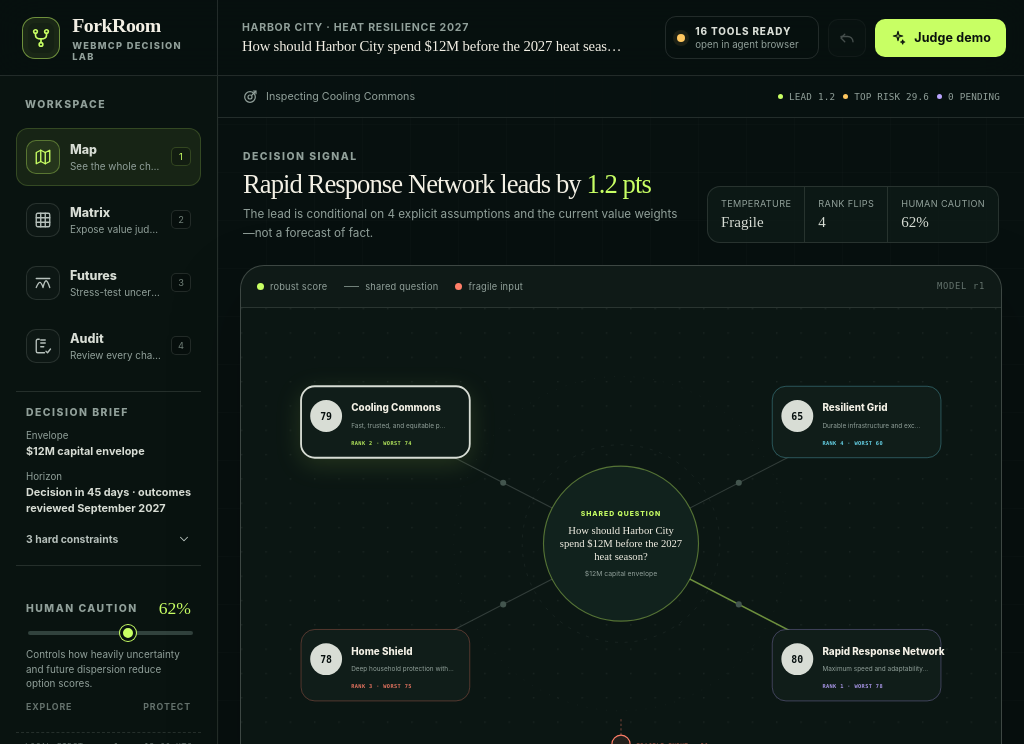
Test case: ForkRoom product experience › moves between map, matrix, futures, and audit views through the human UI
Step 1. Click the button "Matrix Expose value judgments 2" → point(108, 220), box left=16, top=190, right=201, bottom=248
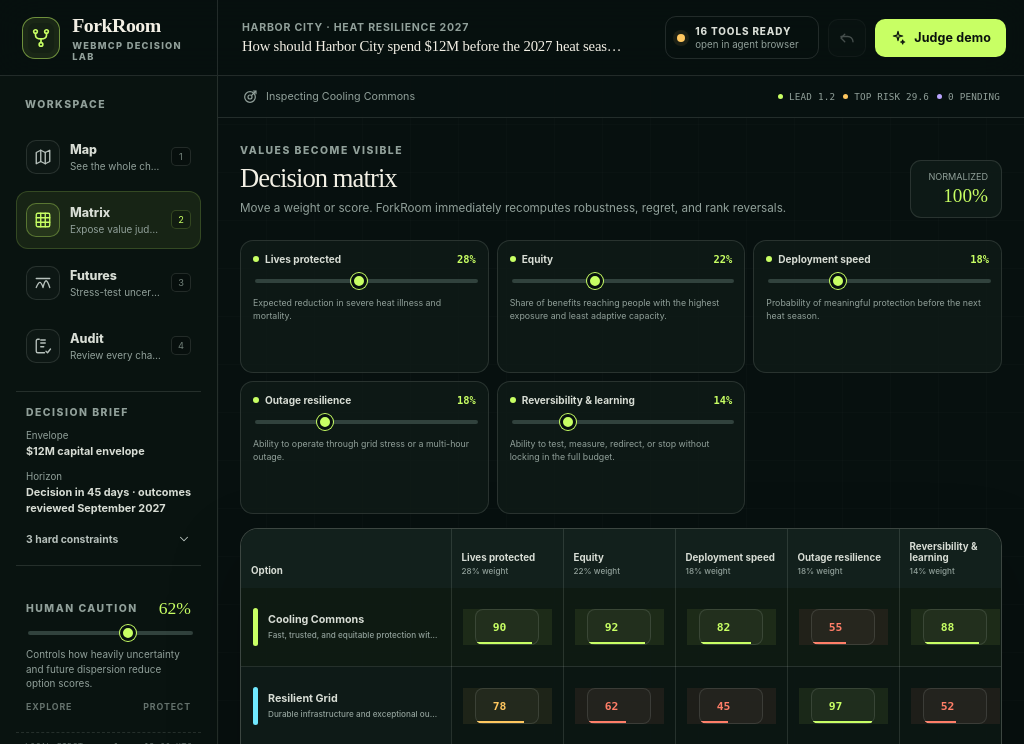
Expected: the heading "Decision matrix" is shown, left=240, top=162, right=397, bottom=192
Step 2. Click the button "Futures Stress-test uncertainty 3" → point(108, 282), box left=16, top=254, right=201, bottom=312
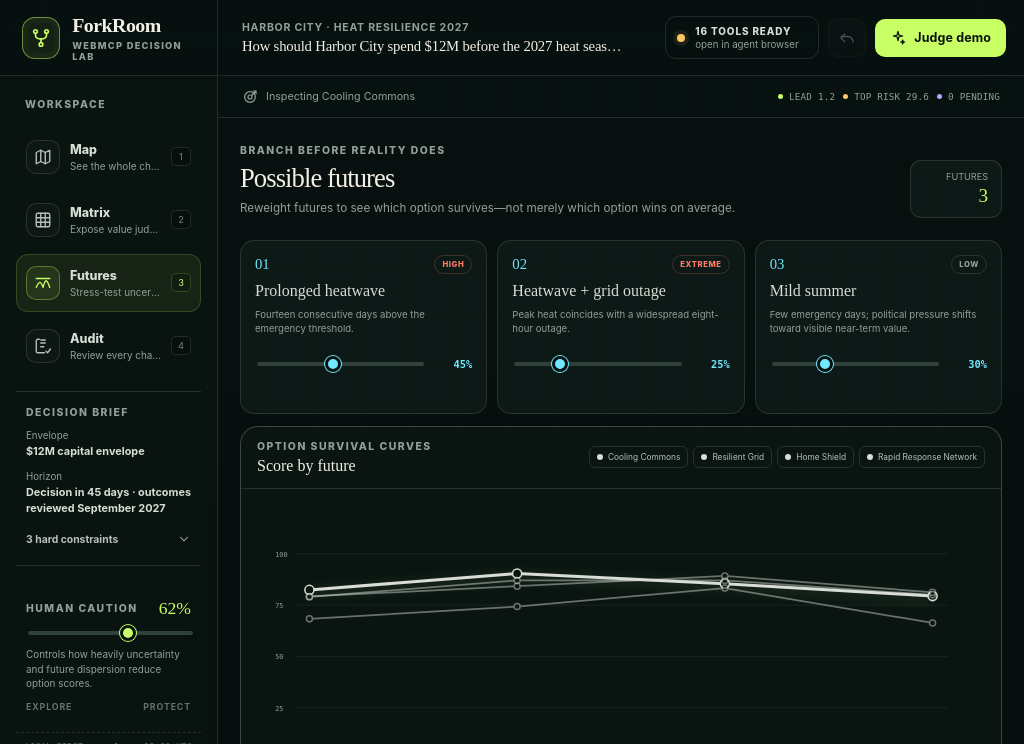
Expected: the heading "Possible futures" is shown, left=240, top=162, right=394, bottom=192
Step 3. Click the button "Audit Review every change 4" → point(108, 346), box left=16, top=316, right=201, bottom=374
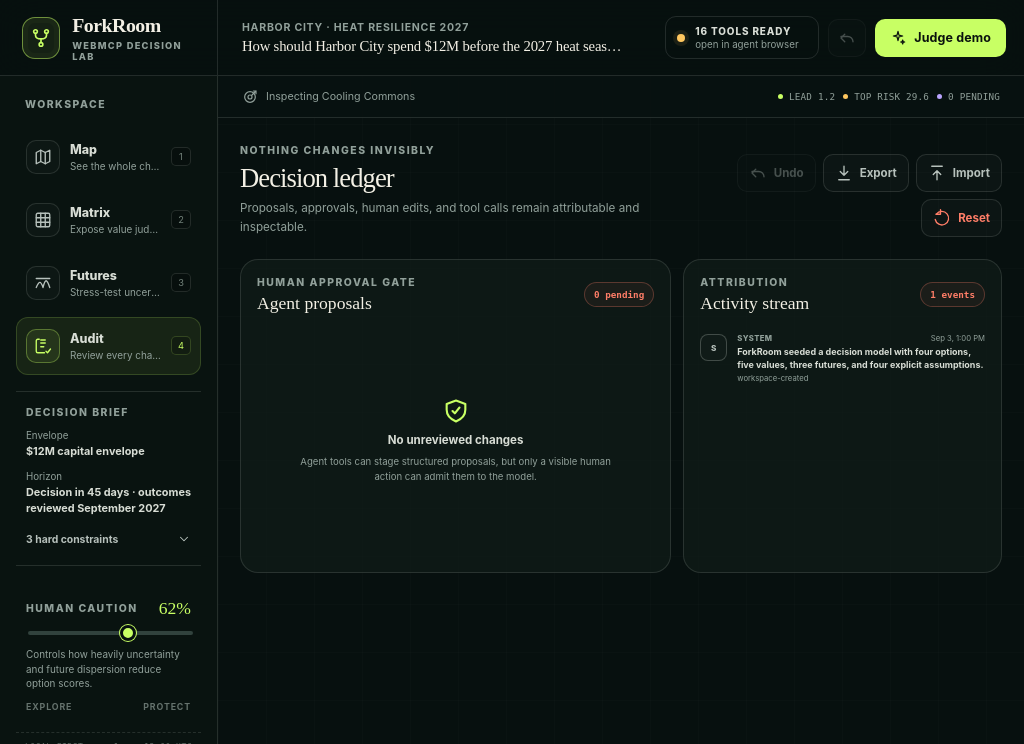
Expected: the heading "Decision ledger" is shown, left=240, top=162, right=394, bottom=192
Step 4. Click the button "Map See the whole choice 1" → point(108, 156), box left=16, top=128, right=201, bottom=186
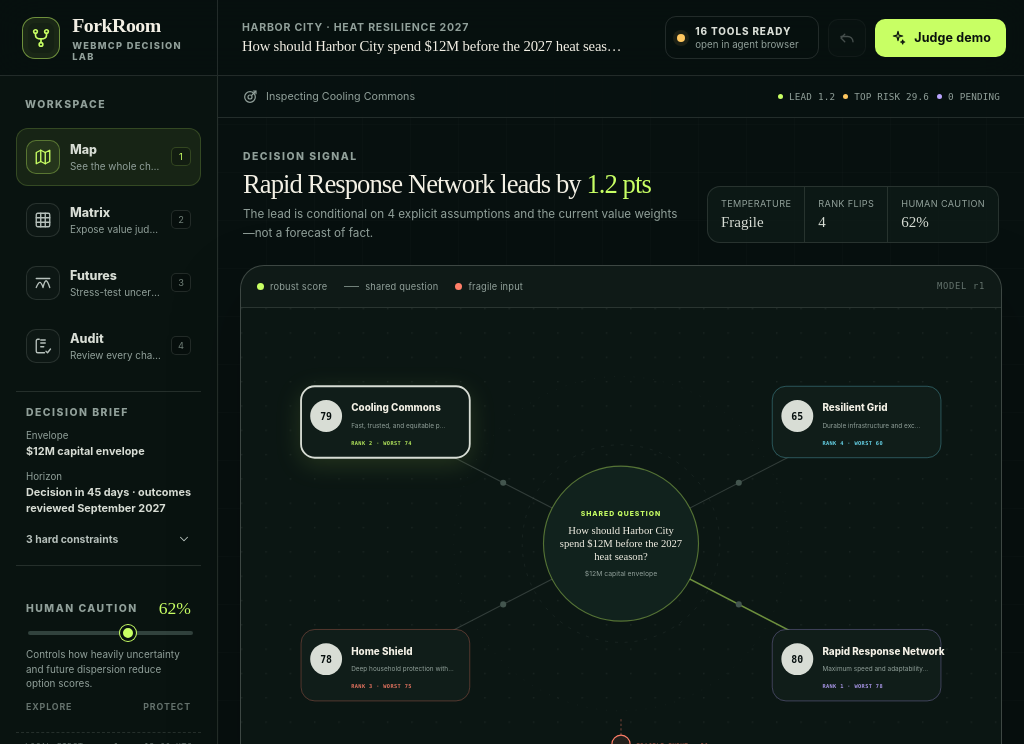
Expected: the heading "Rapid Response Network leads by 1.2 pts" is shown, left=243, top=170, right=679, bottom=198
